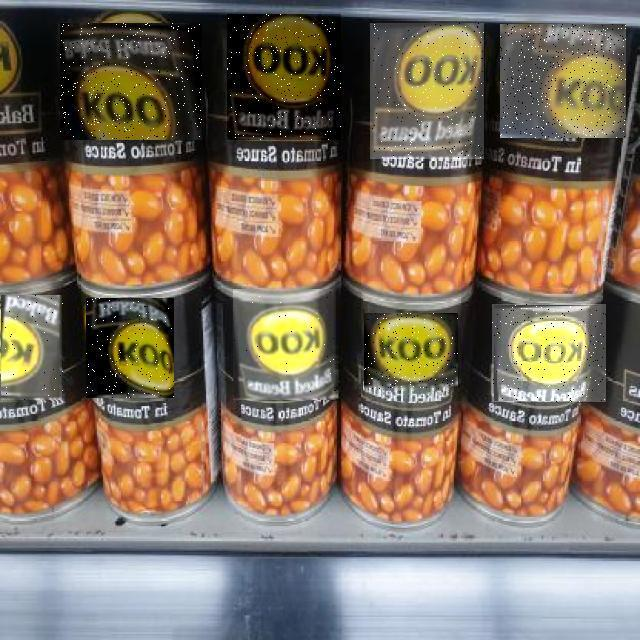Beans: (60, 23, 202, 140), (370, 23, 484, 159), (227, 14, 341, 140), (500, 25, 626, 139), (234, 289, 338, 400), (492, 304, 606, 402), (86, 299, 174, 399), (365, 314, 459, 390), (2, 296, 64, 402)
